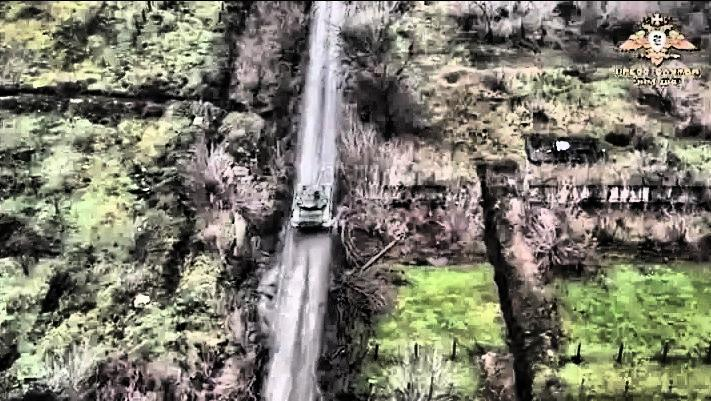military-vehicle: (289, 169, 334, 231)
